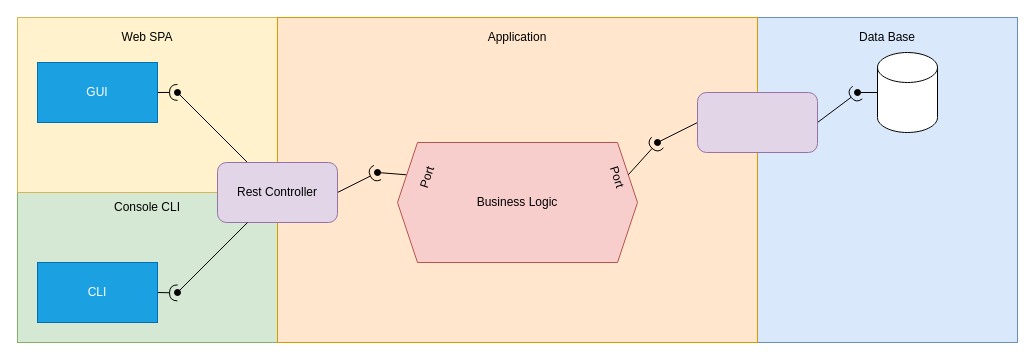
This 1035x360 diagram has some shape labels left out. The shapes that lost their labels are listed below. From the top down, each one's centre as x and y in pixels, then its label:
At [907,92]: "SQL".
At [757,122]: "Data Base Adapter".
